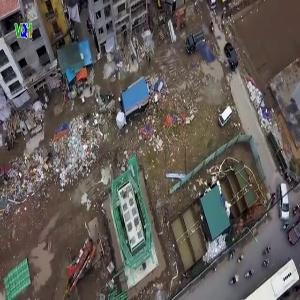drone: (175, 11, 252, 88)
